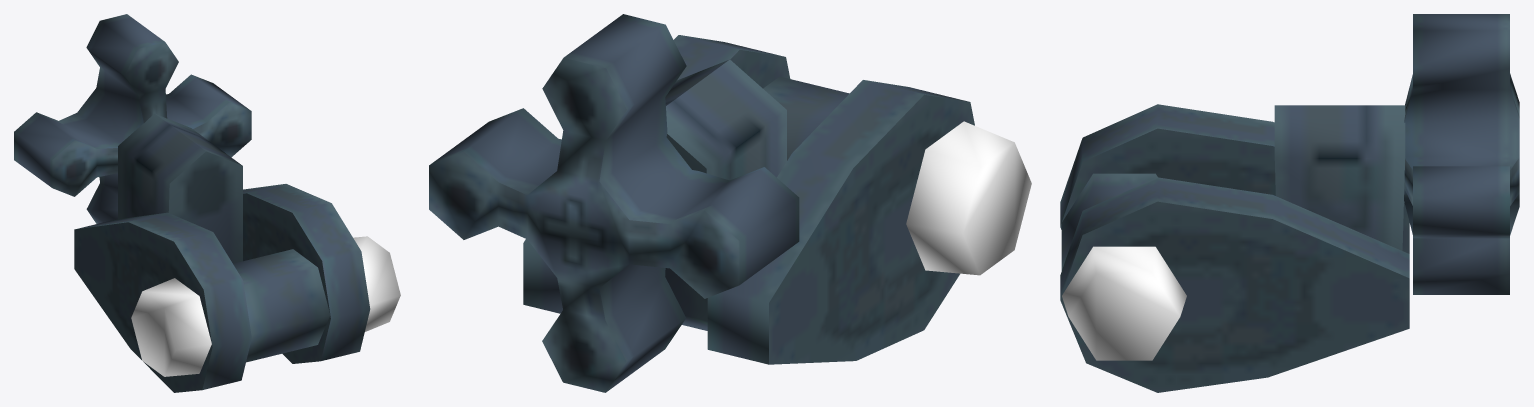
File: tfsh.obj
3 renders of one model, left to right at view 1: azimuth 30°, elevation 25°; view 2: azimuth 150°, elevation 25°; view 3: azimuth 270°, elevation 25°, orthographic. The views are drawn at different scales.
Size of the model in its own units: 0.5732 by 0.6182 by 0.7999.
